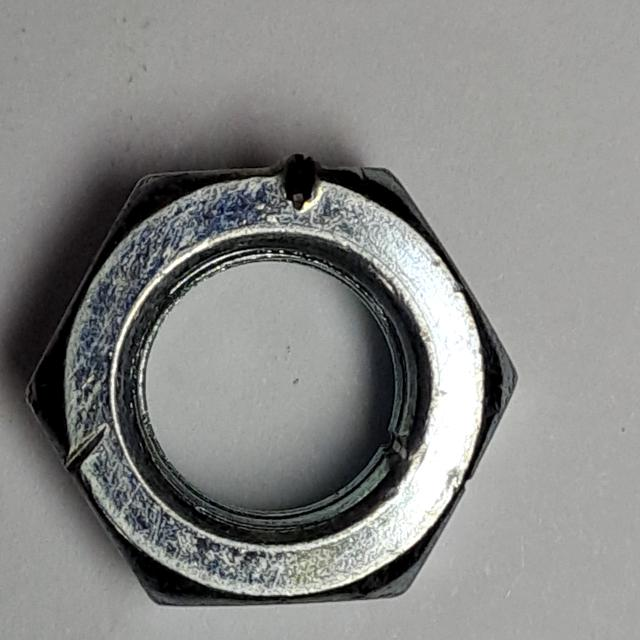Scratches: (17, 139, 532, 622)
